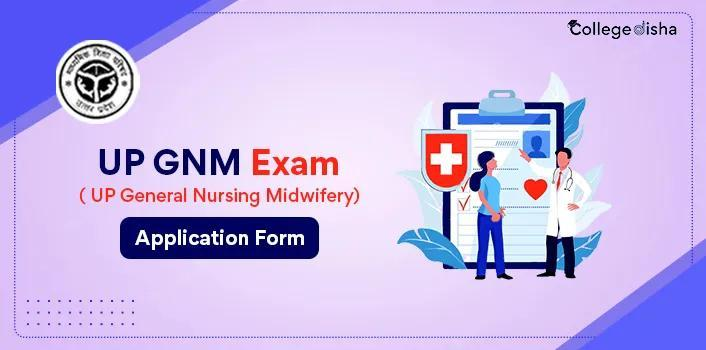button: (121, 218, 321, 260)
